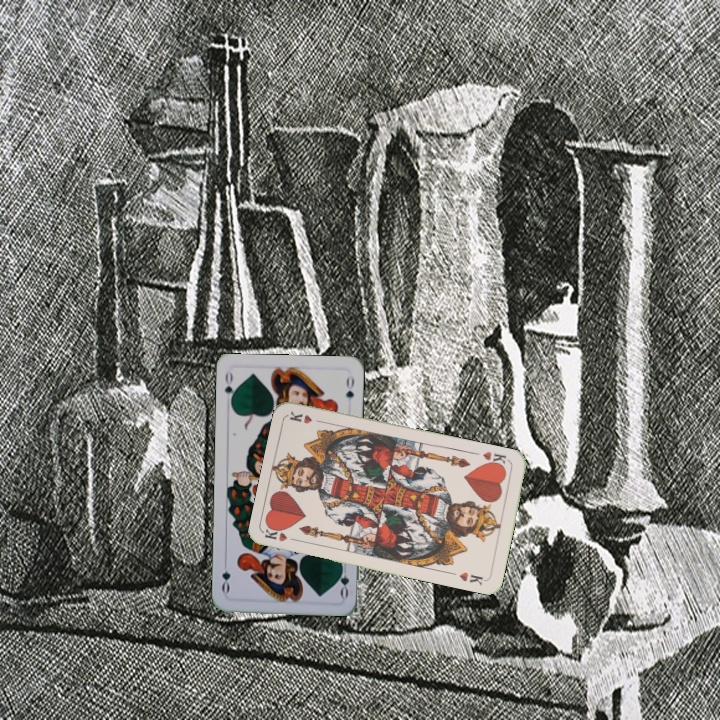GO: (221, 368, 238, 409), (336, 559, 351, 600)
HK: (261, 523, 302, 544), (479, 447, 512, 470)
